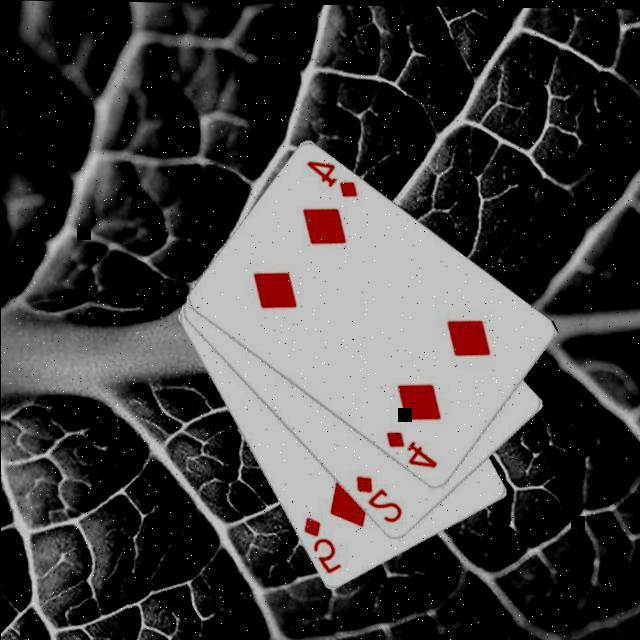2D: (353, 473, 406, 527)
4D: (304, 158, 362, 202), (384, 428, 440, 472)
5D: (300, 514, 344, 578)
